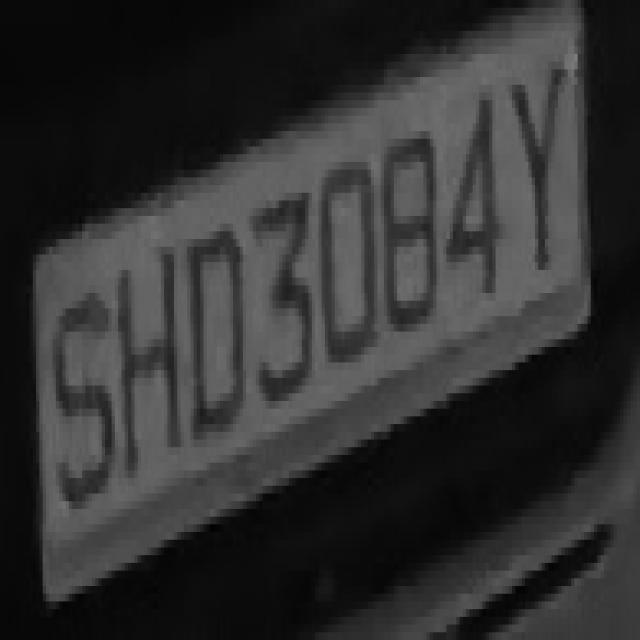0: (305, 146, 384, 401)
3: (250, 178, 318, 440)
4: (436, 62, 508, 339)
8: (374, 100, 443, 355)
D: (167, 216, 253, 463)
H: (105, 231, 190, 486)
S: (49, 262, 118, 548)
Y: (506, 47, 578, 286)
